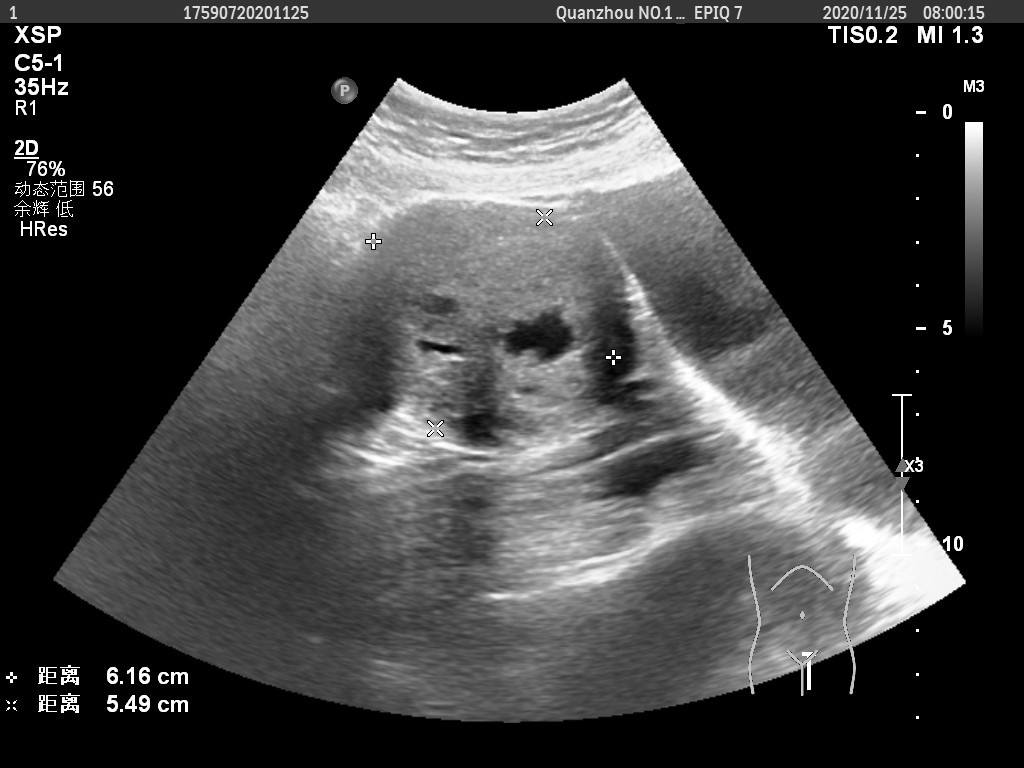肌瘤: (373, 212, 622, 443)
